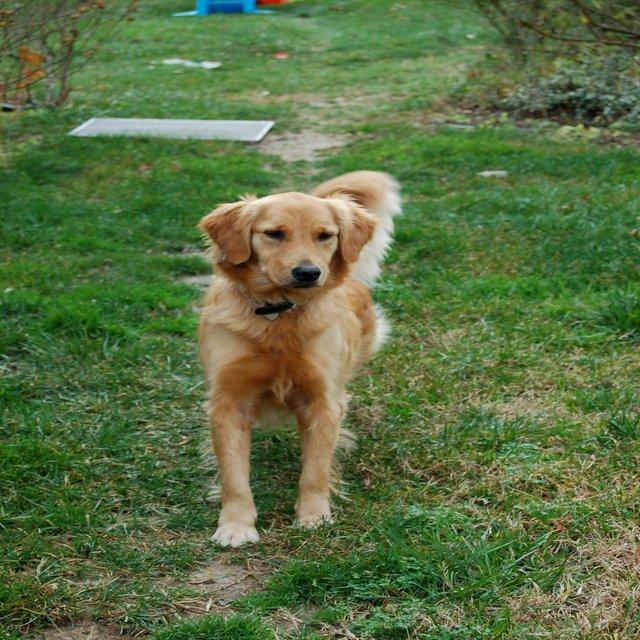retriever: (193, 168, 402, 548)
